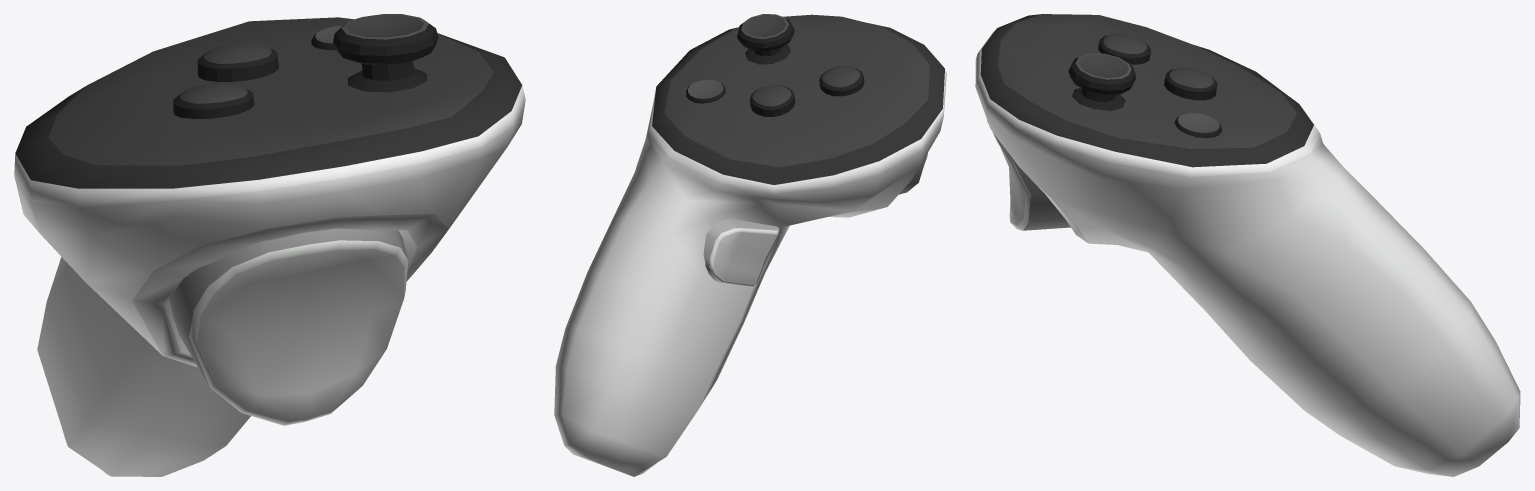
Rendered from Controller_L.fbx.
The picture shows the model from 3 angles, left to right: view 1: azimuth 30°, elevation 25°; view 2: azimuth 150°, elevation 25°; view 3: azimuth 270°, elevation 25°; orthographic projection. The views are drawn at different scales.
Visible parts, largest first — view 1: MetaController_01, MetaController_07, MetaController_05, MetaController_02, MetaController_03; view 2: MetaController_01, MetaController_06, MetaController_05, MetaController_02, MetaController_03, MetaController_04; view 3: MetaController_01, MetaController_05, MetaController_07, MetaController_02, MetaController_03, MetaController_04.
Boxes of the visible parts, x1,y1,x2,y2 form: MetaController_01: (14,17,525,476); MetaController_07: (169,228,408,425); MetaController_05: (333,14,438,92); MetaController_02: (197,42,278,81); MetaController_03: (173,82,254,118); MetaController_01: (554,14,946,476); MetaController_06: (703,218,779,287); MetaController_05: (737,14,794,64); MetaController_02: (750,85,795,116); MetaController_03: (819,66,864,96); MetaController_04: (686,79,725,103); MetaController_01: (975,14,1520,476); MetaController_05: (1068,53,1135,110); MetaController_07: (987,120,1070,230); MetaController_02: (1164,67,1217,100); MetaController_03: (1098,33,1150,64); MetaController_04: (1174,113,1221,138).
Size of the model in its own units: 7.21 by 9.6 by 11.51.
